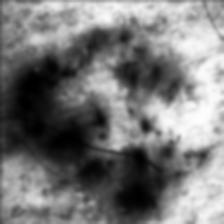Potentially Malignant Skin Tumors: (13, 65, 55, 136), (119, 175, 157, 224)
